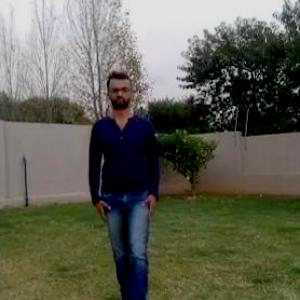follow: (100, 84, 160, 299)
